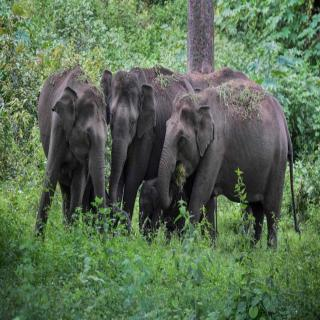Elephant: (155, 69, 303, 263), (30, 54, 113, 254), (100, 48, 160, 244)
